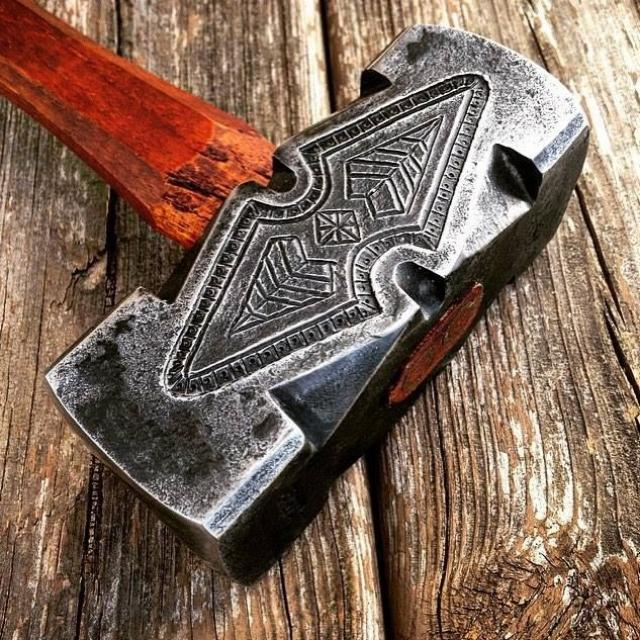hammer: (0, 0, 598, 597)
